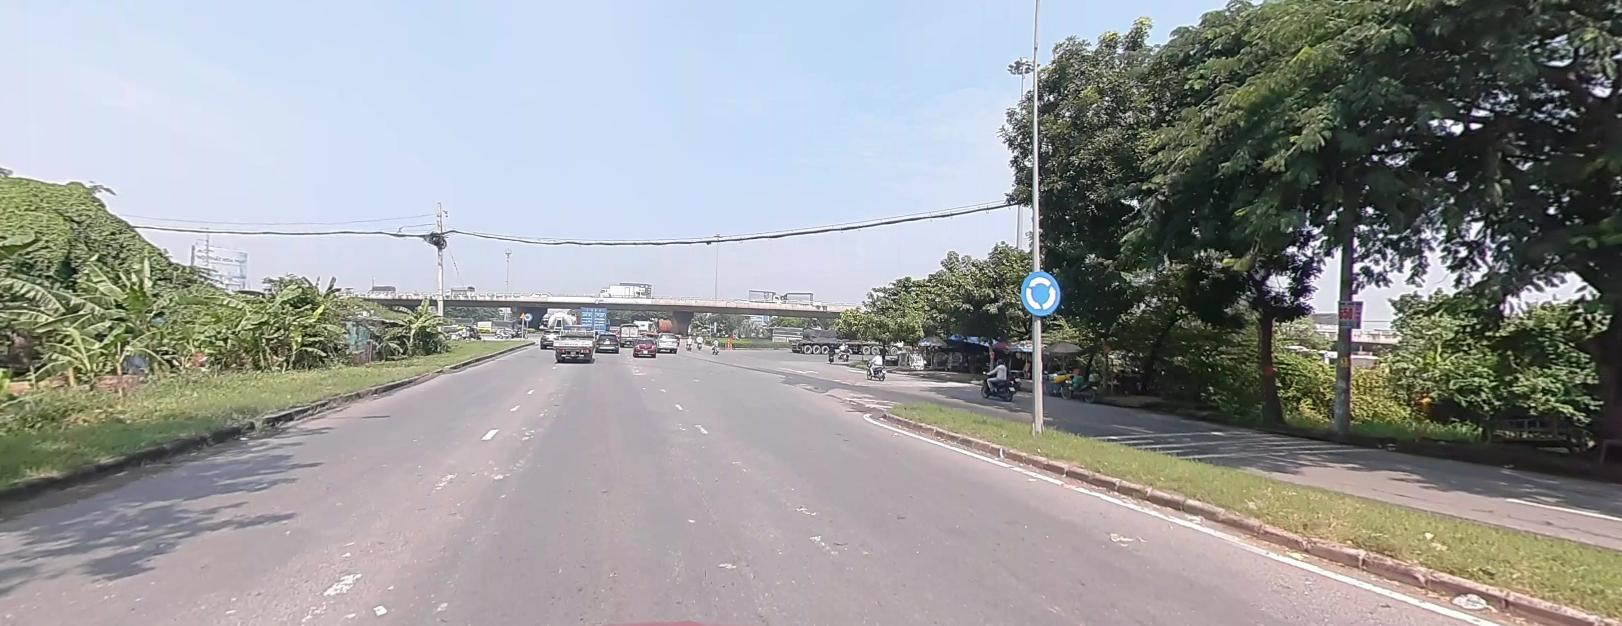Cam con lai: (524, 310, 533, 319)
Hieu lenh: (1018, 268, 1062, 314)
Nguy hiem: (519, 310, 525, 316)
